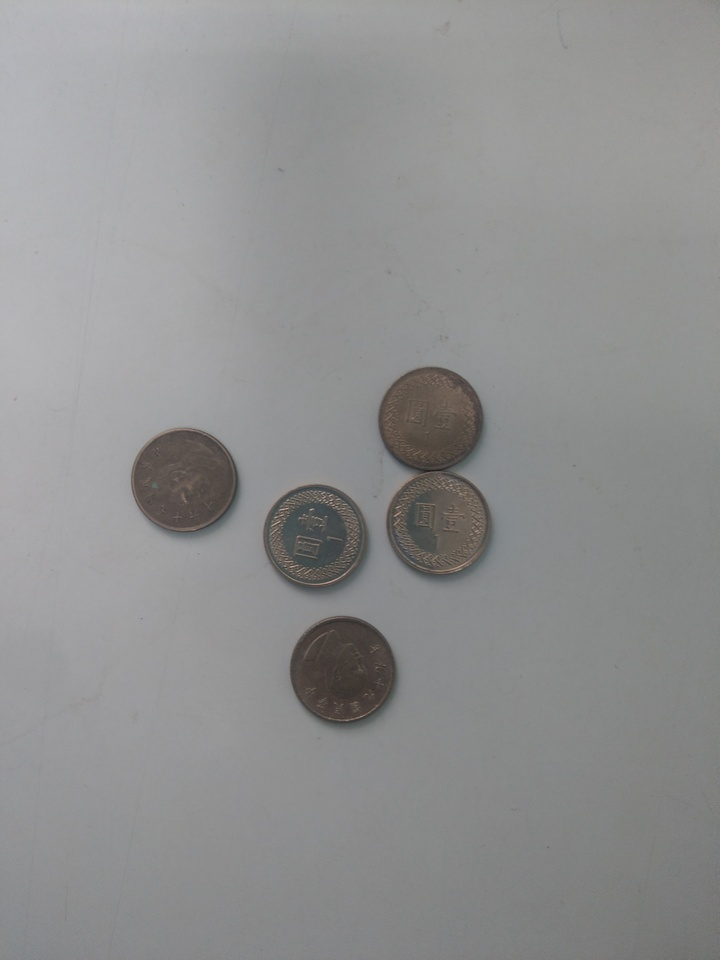1 dollar: (288, 615, 401, 733), (129, 422, 239, 540), (260, 483, 370, 594), (385, 471, 496, 581), (374, 365, 489, 471)
